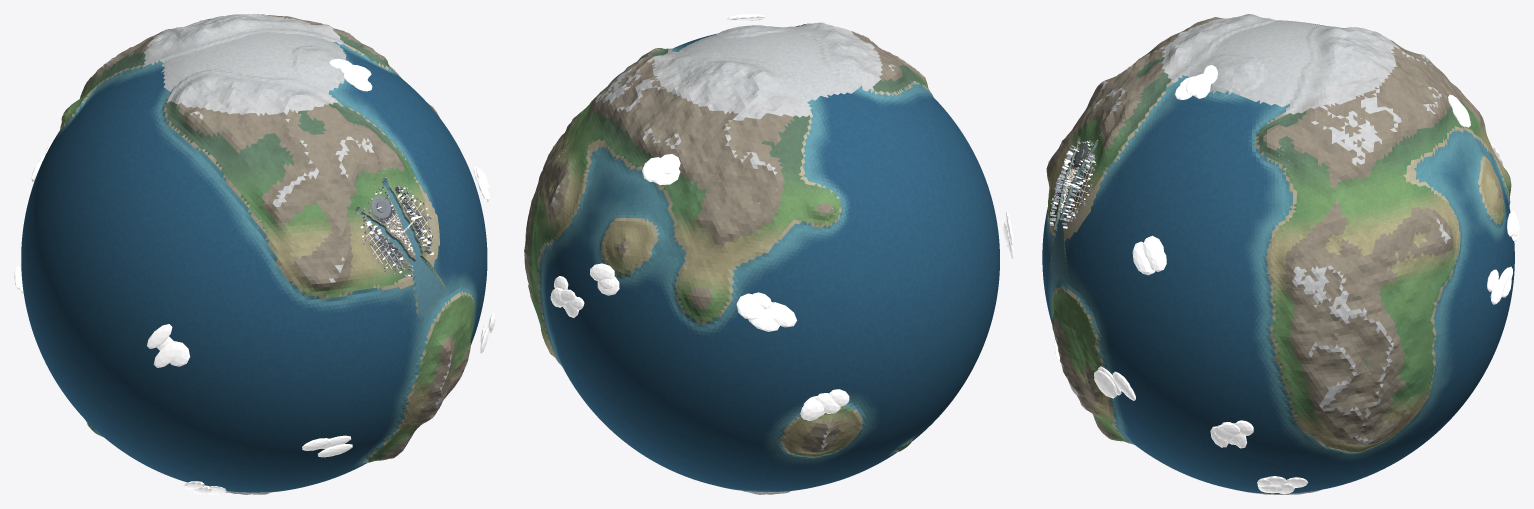
The model's file is earth.glb.
3 views of the same model, side by side, from view 1: azimuth 30°, elevation 25°; view 2: azimuth 150°, elevation 25°; view 3: azimuth 270°, elevation 25° (orthographic).
Visible parts, largest first — view 1: Earth, CharlestonPatch, Clouds, City_Charleston; view 2: Earth, Clouds; view 3: Earth, Clouds, CharlestonPatch, City_Charleston.
Part boxes in pixels (x1,y1,x2,y2): Earth: (21,14,487,494); CharlestonPatch: (360,184,434,277); Clouds: (14,59,495,494); City_Charleston: (360,185,433,276); Earth: (524,22,999,494); Clouds: (550,14,1013,420); Earth: (1042,14,1514,494); Clouds: (1054,65,1519,494); CharlestonPatch: (1051,139,1097,231); City_Charleston: (1049,140,1096,228).
Bounding box in the file's own units: 204 × 208 × 202.
